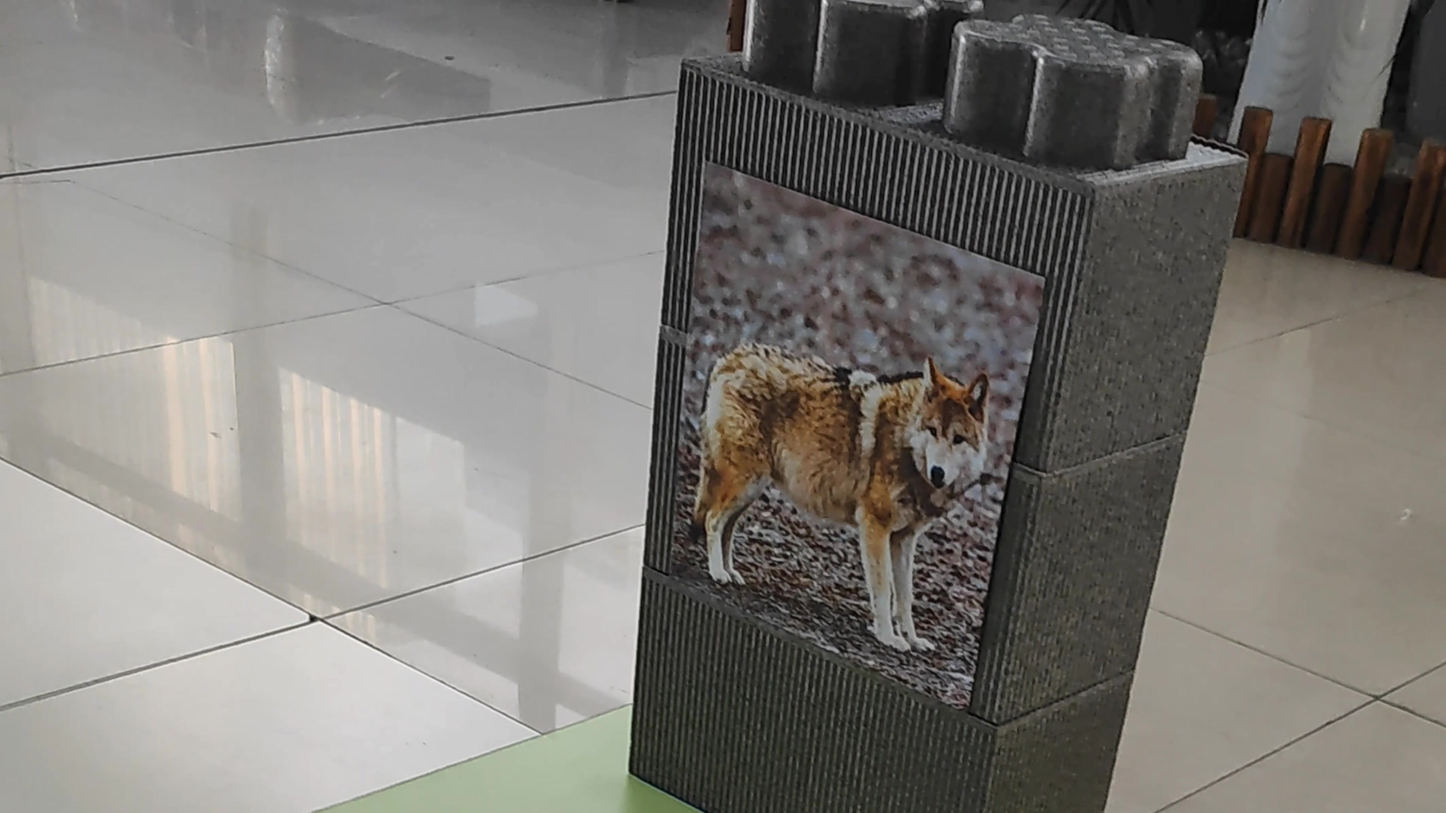wolf: (676, 321, 1000, 670)
